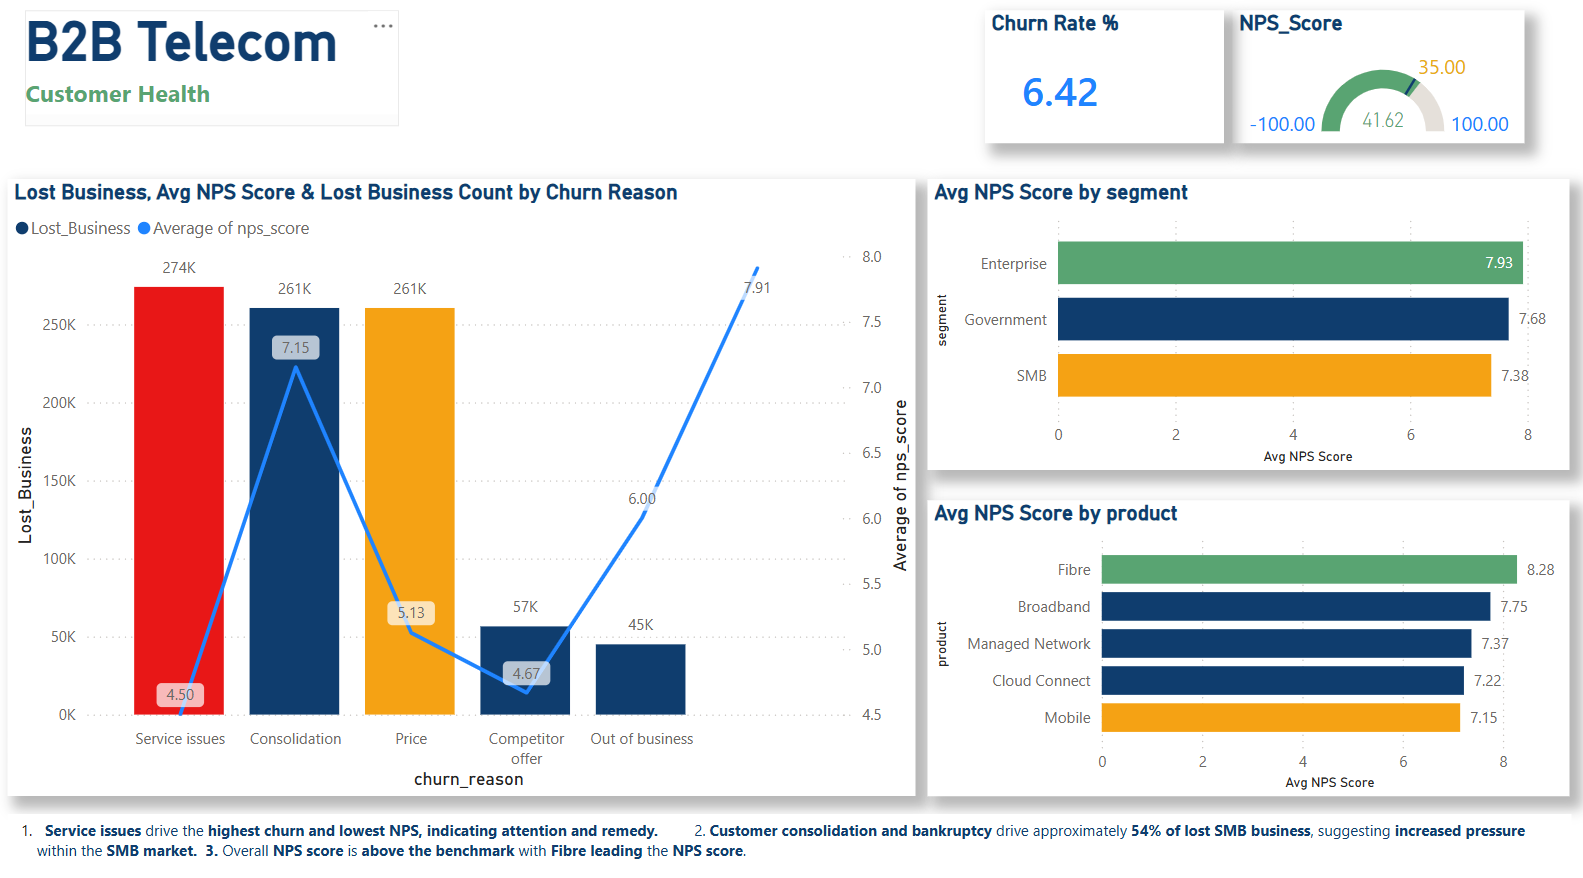

Layout of this report page (visuals, bound fields, positions):
{"tool":"powerbi","page":{"name":"Customer_Health","canvas":[1280,720],"ordinal":3},"visuals":[{"type":"gauge","fields":{"Y":["Measures_Table.NPS_Score"]},"box":[994,17,233,107],"z":0},{"type":"lineClusteredColumnComboChart","title":"Lost Business, Avg NPS Score & Lost Business Count by Churn Reason","fields":{"Category":["customers.churn_reason"],"Y":["Measures_Table.Lost_Business"],"Y2":["Avg(customers.nps_score)"]},"box":[14,152,726,494],"z":1000},{"type":"shape","title":"B2B Telecom","box":[28.3,17.2,299.1,92.3],"z":2000},{"type":"clusteredBarChart","fields":{"Category":["customers.segment"],"Y":["Avg(customers.nps_score)"]},"box":[750,152,513,233],"z":3000},{"type":"clusteredBarChart","fields":{"Y":["Avg(customers.nps_score)"],"Category":["customers.product"]},"box":[750,409,513,237],"z":4000},{"type":"cardVisual","title":"Churn Rate %","fields":{"Data":["Measures_Table.Churn Rate%"]},"box":[796,17,191,107],"z":5000},{"type":"textbox","box":[14,660,1251,53],"z":5001}]}

Visuals, with their boxes in screenshot pixels (x1, y1, x2, y2), scaled from the page's 1280x720 canvas onto the 1583x878 screenshot:
gauge - Measures_Table.NPS_Score: 1229:21:1517:151
"Lost Business, Avg NPS Score & Lost Business Count by Churn Reason" lineClusteredColumnComboChart: 17:185:915:788
"B2B Telecom" shape: 35:21:405:134
clusteredBarChart - customers.segment x Avg(customers.nps_score): 928:185:1562:469
clusteredBarChart - Avg(customers.nps_score) x customers.product: 928:499:1562:788
"Churn Rate %" cardVisual: 984:21:1221:151
textbox: 17:805:1564:869
